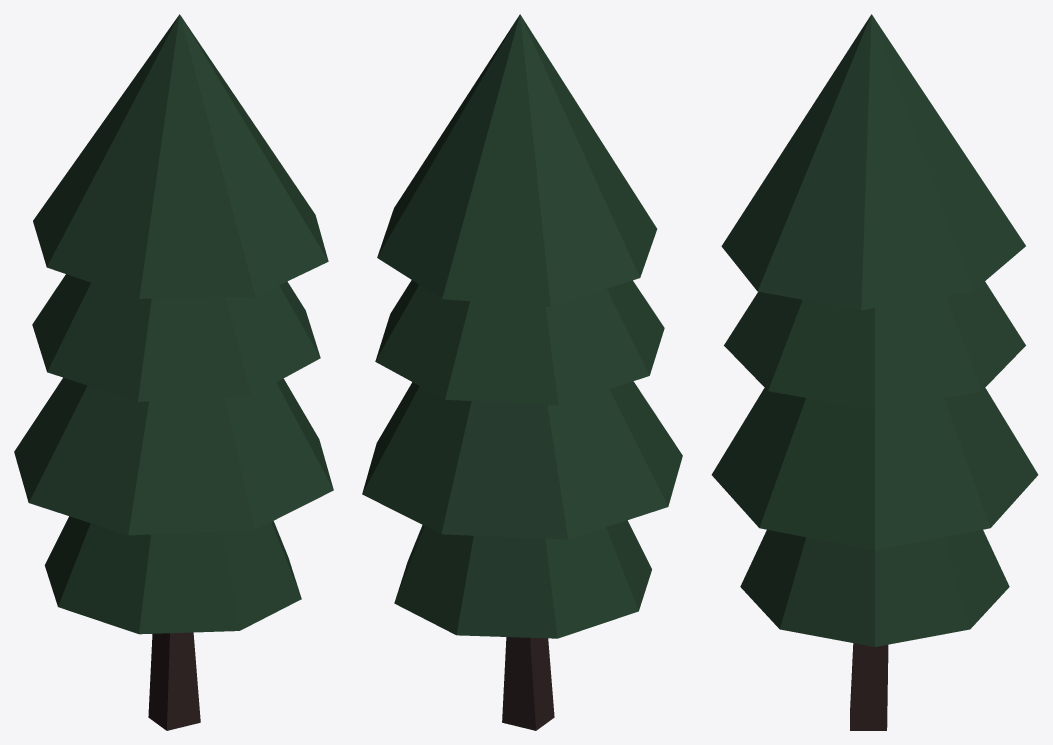
File: tree3.fbx
3 renders of one model, left to right at view 1: azimuth 30°, elevation 25°; view 2: azimuth 150°, elevation 25°; view 3: azimuth 270°, elevation 25°, orthographic.
Parts seen in each view (by area): view 1: pCone4; view 2: pCone4; view 3: pCone4.
Part boxes in pixels (left/top/right/bottom): pCone4: left=14, top=14, right=333, bottom=730; pCone4: left=362, top=14, right=682, bottom=730; pCone4: left=711, top=14, right=1038, bottom=730.
Bounding box in the file's own units: 9.25 × 21.39 × 8.91.
